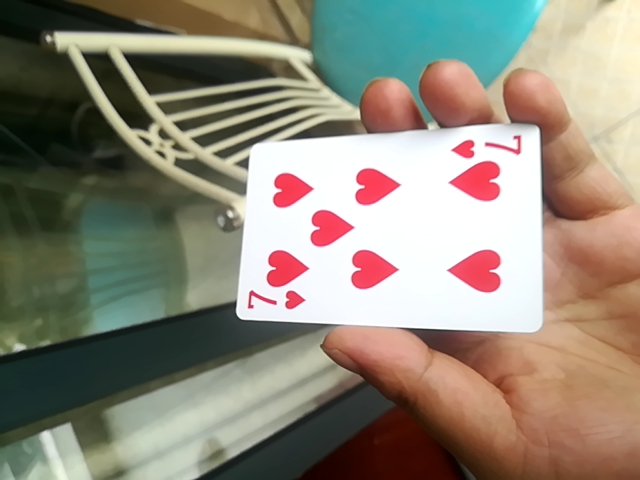hx 7: (230, 120, 544, 332)
